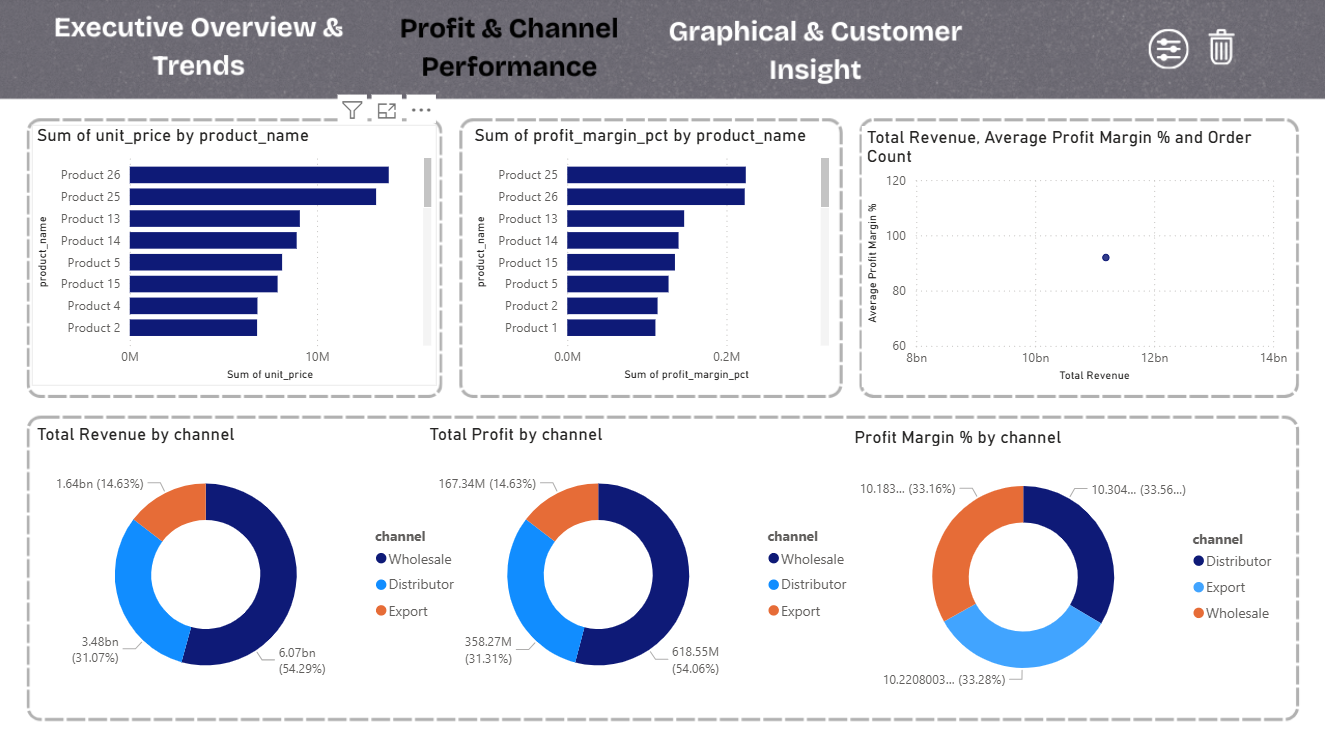

What the dashboard file says about the page in this screenshot:
{"tool":"powerbi","page":{"name":"Product_Performance","canvas":[1280,720],"ordinal":2},"visuals":[{"type":"barChart","fields":{"Category":["Sales_data(EDA Exported).product_name"],"Y":["Sum(Sales_data(EDA Exported).unit_price)"]},"box":[32.6,124.3,390.9,252.1],"z":0},{"type":"clusteredBarChart","fields":{"Category":["Sales_data(EDA Exported).product_name"],"Y":["Sum(Sales_data(EDA Exported).profit_margin_pct)"]},"box":[454.8,124.3,352.3,252.1],"z":1000},{"type":"scatterChart","fields":{"X":["Customer Summary.Total Revenue"],"Y":["Customer Summary.Average Profit Margin %"],"Size":["Customer Summary.Order Count"]},"box":[833.7,125.5,416.2,252.1],"z":2000},{"type":"donutChart","fields":{"Category":["Sales_data(EDA Exported).channel"],"Y":["Customer Summary.Total Revenue"]},"box":[32.6,412.6,422.3,272.7],"z":3000},{"type":"donutChart","fields":{"Category":["Sales_data(EDA Exported).channel"],"Y":["Customer Summary.Total Profit"]},"box":[411.4,412.6,422.3,272.7],"z":4000},{"type":"donutChart","fields":{"Category":["Sales_data(EDA Exported).channel"],"Y":["Customer Summary.Profit Margin %"]},"box":[821.6,415,422.3,272.7],"z":5000},{"type":"actionButton","box":[49.5,12.1,296.8,79.6],"z":6000},{"type":"actionButton","box":[639.4,12.1,296.8,79.6],"z":7000}]}

Visuals, with their boxes on the page's 1280x720 design canvas (x1, y1, x2, y2). These are canvas units, not pixel positions in the 1325x739 screenshot, which may show the page scaled, cropped or inside an application window:
barChart - Sales_data(EDA Exported).product_name x Sum(Sales_data(EDA Exported).unit_price): [33,124,424,376]
clusteredBarChart - Sales_data(EDA Exported).product_name x Sum(Sales_data(EDA Exported).profit_margin_pct): [455,124,807,376]
scatterChart - Customer Summary.Total Revenue x Customer Summary.Average Profit Margin %: [834,126,1250,378]
donutChart - Sales_data(EDA Exported).channel x Customer Summary.Total Revenue: [33,413,455,685]
donutChart - Sales_data(EDA Exported).channel x Customer Summary.Total Profit: [411,413,834,685]
donutChart - Sales_data(EDA Exported).channel x Customer Summary.Profit Margin %: [822,415,1244,688]
actionButton: [50,12,346,92]
actionButton: [639,12,936,92]
